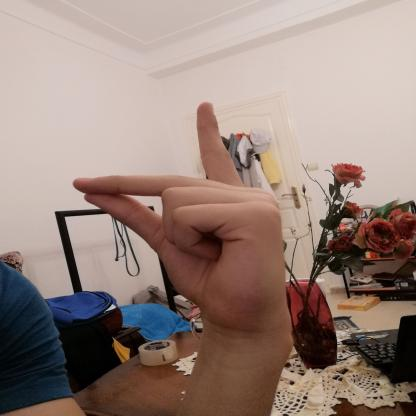TAA: (59, 91, 304, 343)
